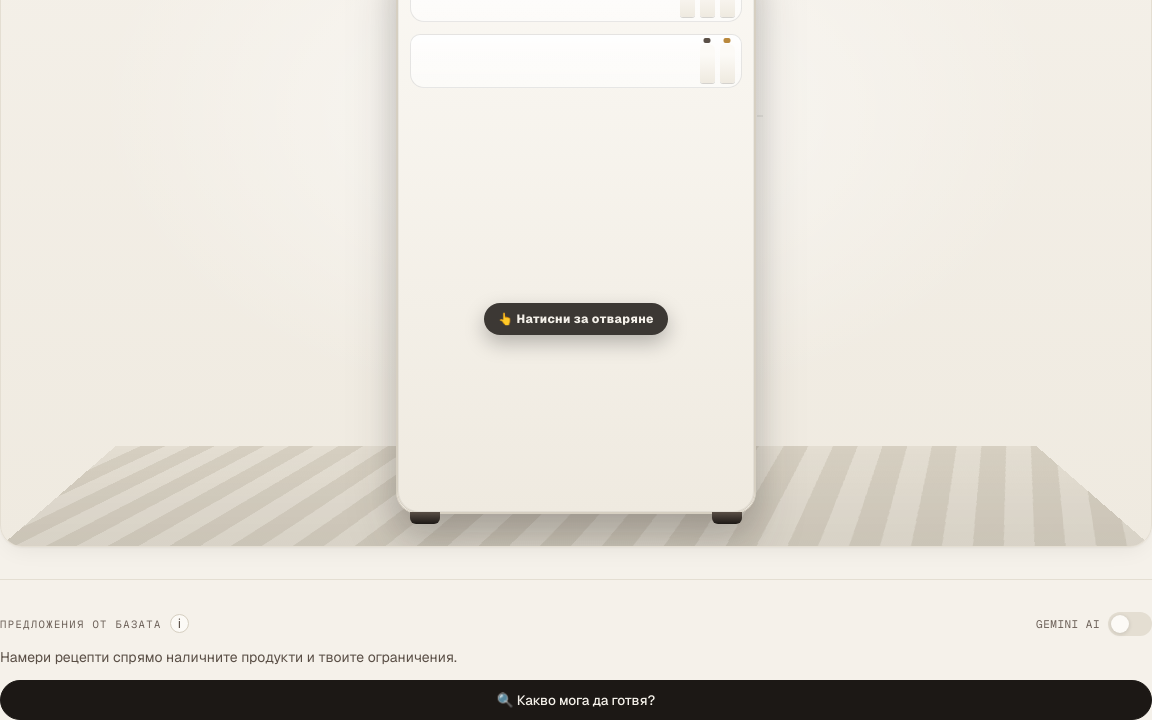
Test case: FridgeScreen – Try different for Recipe API › shows the button after Recipe API search returns results from TheMealDB
(page scrolled)
Click the button "🔍 Какво мога да готвя?". click: point(576, 700)
box: [0,680,1151,719]
(page scrolled)
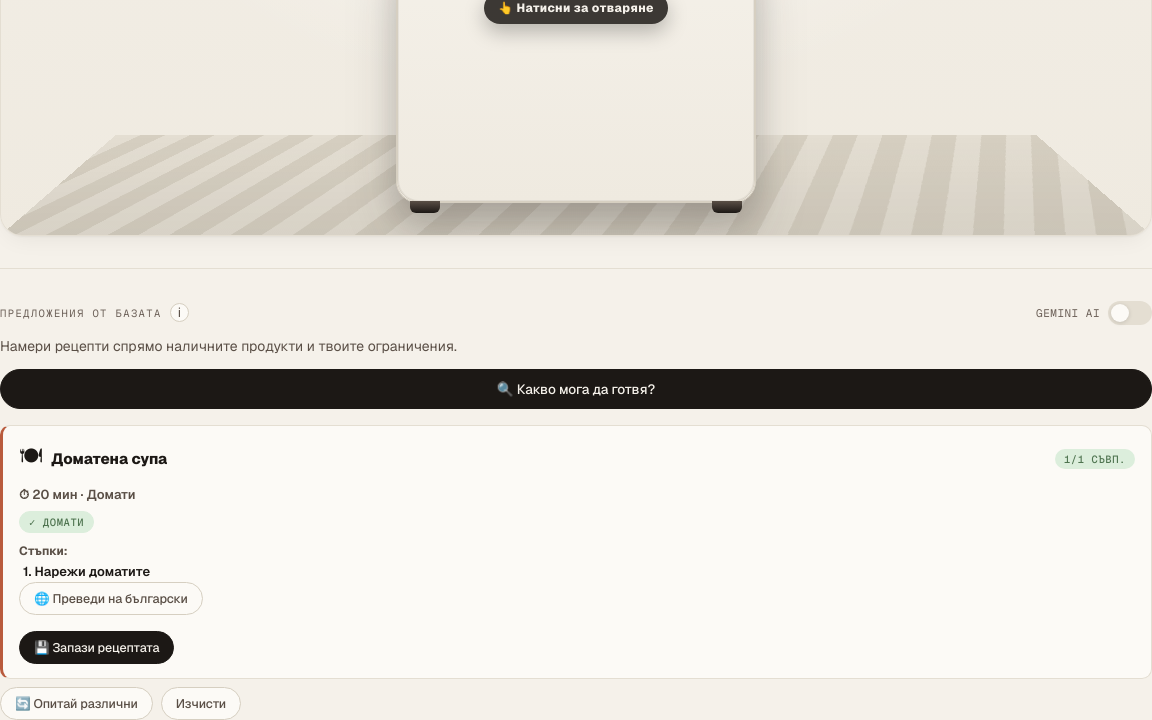
expect the text "Доматена супа" is shown: met, box [51,450,167,468]
expect the button "🔄 Опитай различни" is shown: met, box [0,687,153,719]
